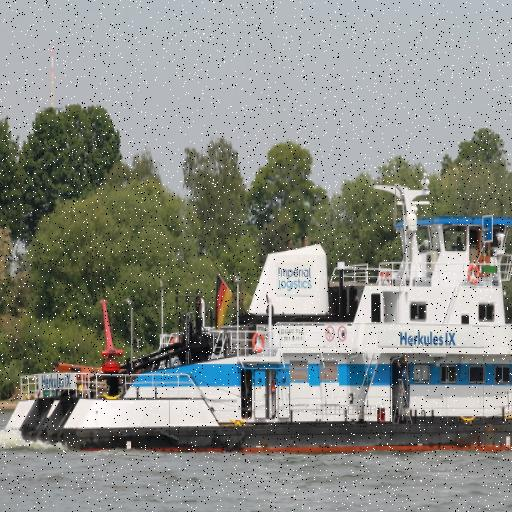tugboat: (2, 168, 512, 462)
